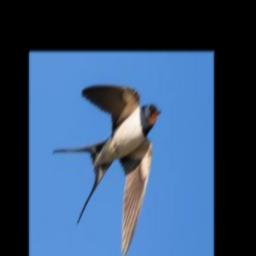Swallow: (53, 84, 161, 255)
